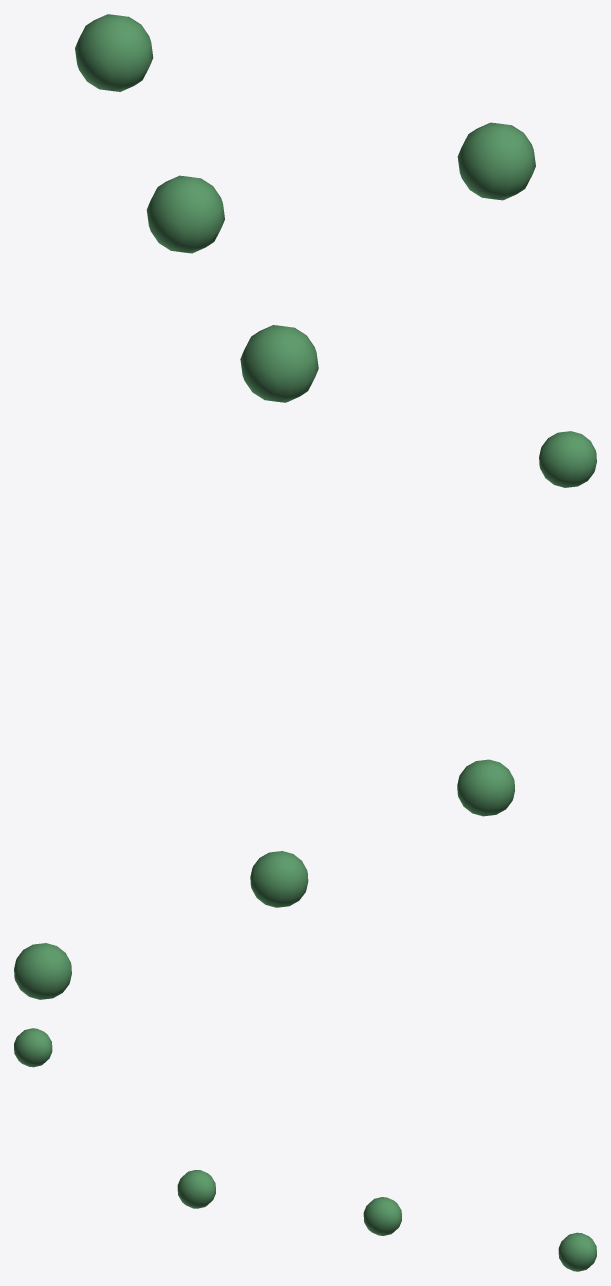
3 views of the same model, one above another, from view 1: azimuth 30°, elevation 25°; view 2: azimuth 150°, elevation 25°; view 3: azimuth 270°, elevation 25° (orthographic). The views are drawn at different scales.
Visible parts, largest first — view 1: 心包前淋巴结; view 2: 心包前淋巴结; view 3: 心包前淋巴结.
Part boxes in pixels (x1,y1,x2,y2): 心包前淋巴结: [75, 14, 535, 402]; 心包前淋巴结: [14, 431, 596, 999]; 心包前淋巴结: [14, 1028, 596, 1271].
Bounding box in the file's own units: 0.0158 × 0.0214 × 0.0565.
